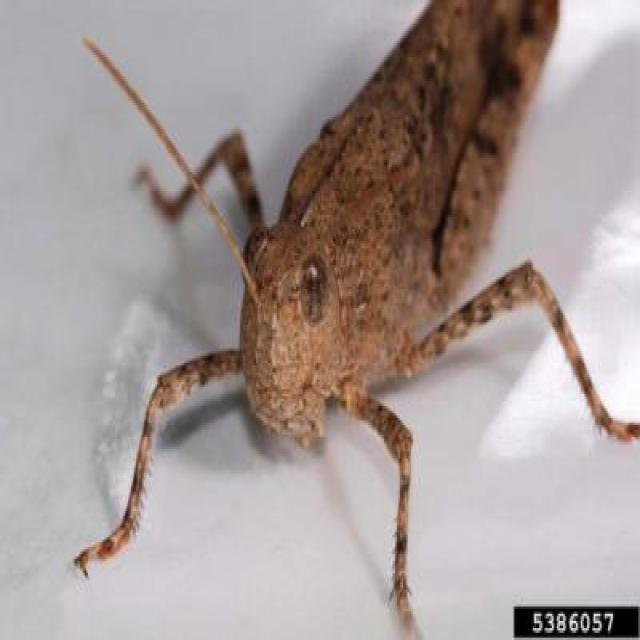antennae: (79, 33, 267, 309)
body: (240, 0, 520, 447)
insect: (68, 0, 638, 640)
legs: (388, 263, 640, 448), (74, 345, 246, 576), (340, 383, 426, 638), (123, 131, 270, 234)
mouthpart: (258, 408, 323, 449)
wings: (363, 0, 563, 206)
